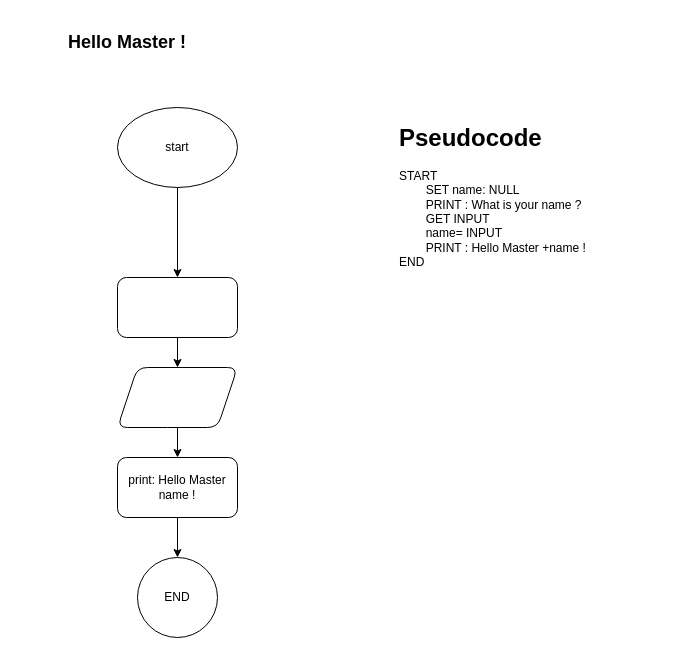
The diagram is 674 pixels wide and 655 high, and some of its shapes have lost their labels. Each missing label, with the box of its shape:
input :name: (116, 366, 238, 428)
print: What is your name ?: (116, 276, 238, 338)
